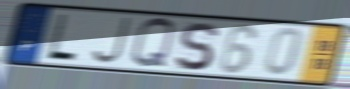0: (261, 26, 305, 78)
6: (217, 22, 262, 75)
J: (89, 15, 134, 65)
L: (42, 11, 79, 63)
Q: (128, 16, 177, 71)
S: (173, 20, 221, 72)
